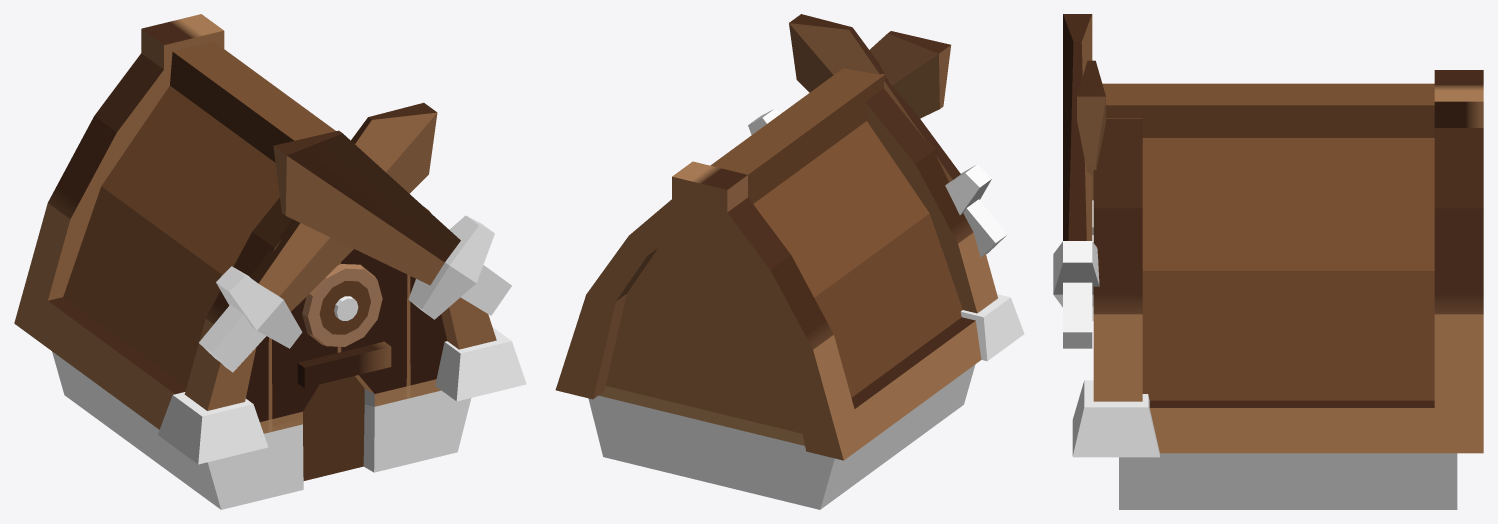
The model's file is Building_ArmyCamp_Lv3.fbx.
The picture shows the model from 3 angles, left to right: view 1: azimuth 30°, elevation 25°; view 2: azimuth 150°, elevation 25°; view 3: azimuth 270°, elevation 25°; orthographic projection. The views are drawn at different scales.
Visible parts, largest first — view 1: Building_ArmyCamp_Lv3; view 2: Building_ArmyCamp_Lv3; view 3: Building_ArmyCamp_Lv3.
Part boxes in pixels (<box>): Building_ArmyCamp_Lv3: <box>14,14,526,509</box>; Building_ArmyCamp_Lv3: <box>555,14,1024,509</box>; Building_ArmyCamp_Lv3: <box>1053,14,1483,509</box>.
Size of the model in its own units: 0.7842 by 0.8383 by 0.8246.
